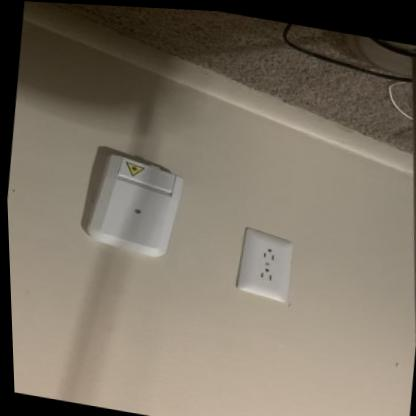OUTLET: (236, 228, 296, 304)
